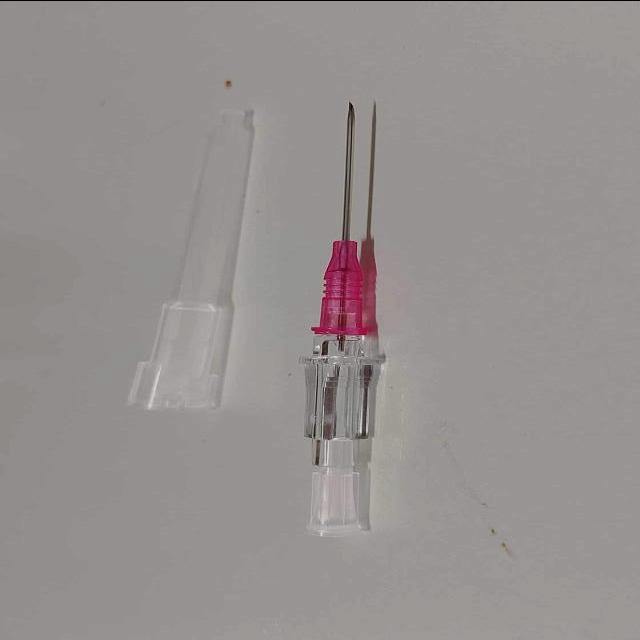Infectious: (124, 105, 255, 411)
Sharps: (298, 99, 375, 536)
